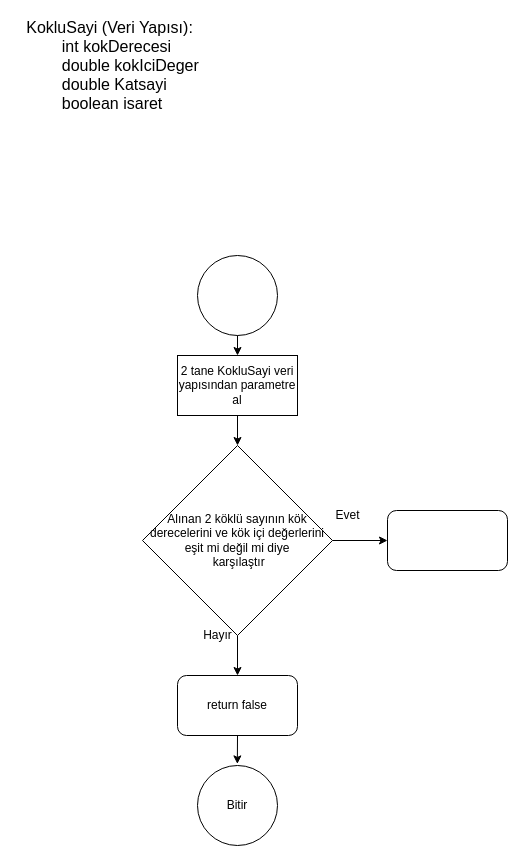
Some shapes in this 525 by 863 pixel diagram are drawn without their labels. The shapes that lost their labels are listed below. From the top down, each one's centre as x and y in pixels, then its label:
At (x=237, y=295): "Başla".
At (x=447, y=540): "return true".
